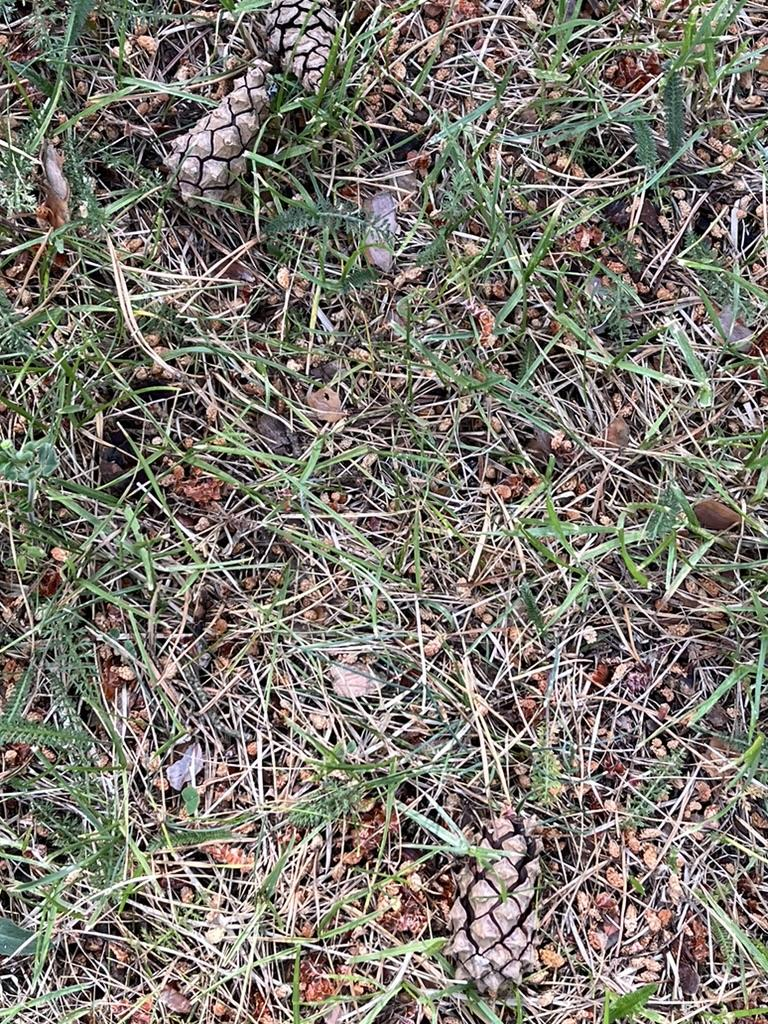pine: (446, 816, 556, 1008), (171, 60, 284, 228), (248, 0, 351, 103)
